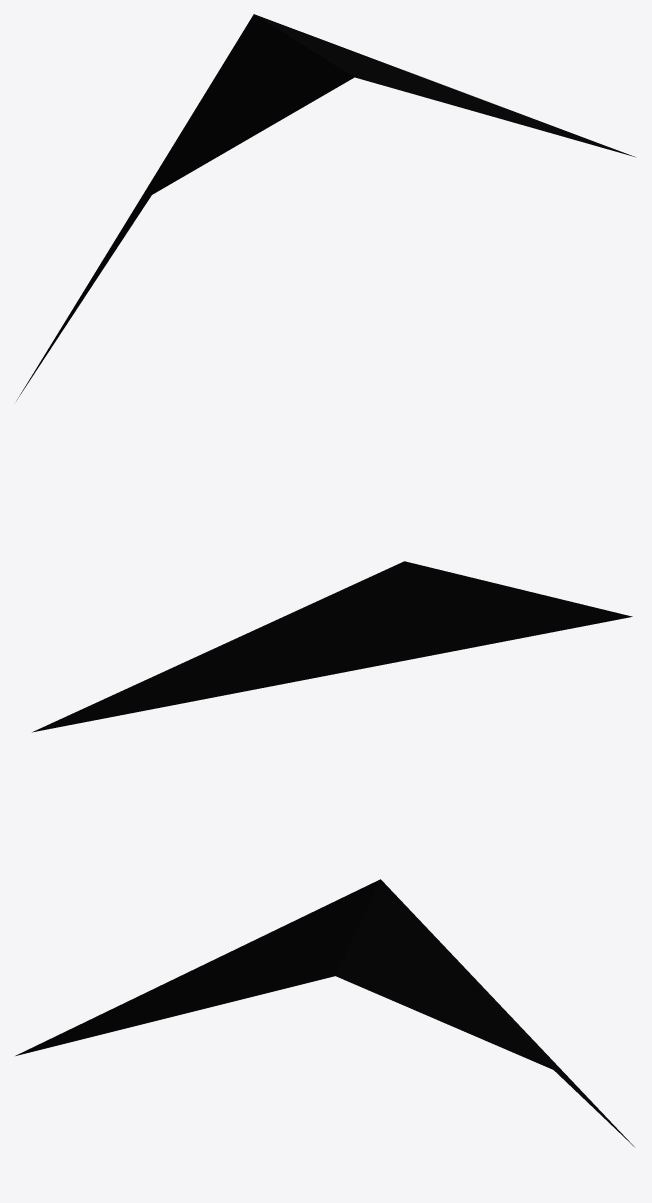
3 views of the same model, one above another, from view 1: azimuth 30°, elevation 25°; view 2: azimuth 150°, elevation 25°; view 3: azimuth 270°, elevation 25° (orthographic). The views are drawn at different scales.
Bounding box in the file's own units: 0.6803 × 0.2666 × 0.8434.
Materials: 1 (1 with a texture image).
